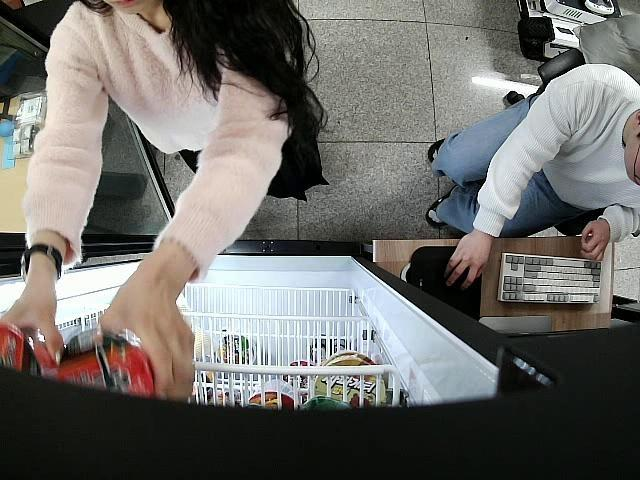02_shinRamen_S: (56, 327, 155, 404), (0, 322, 59, 384)
